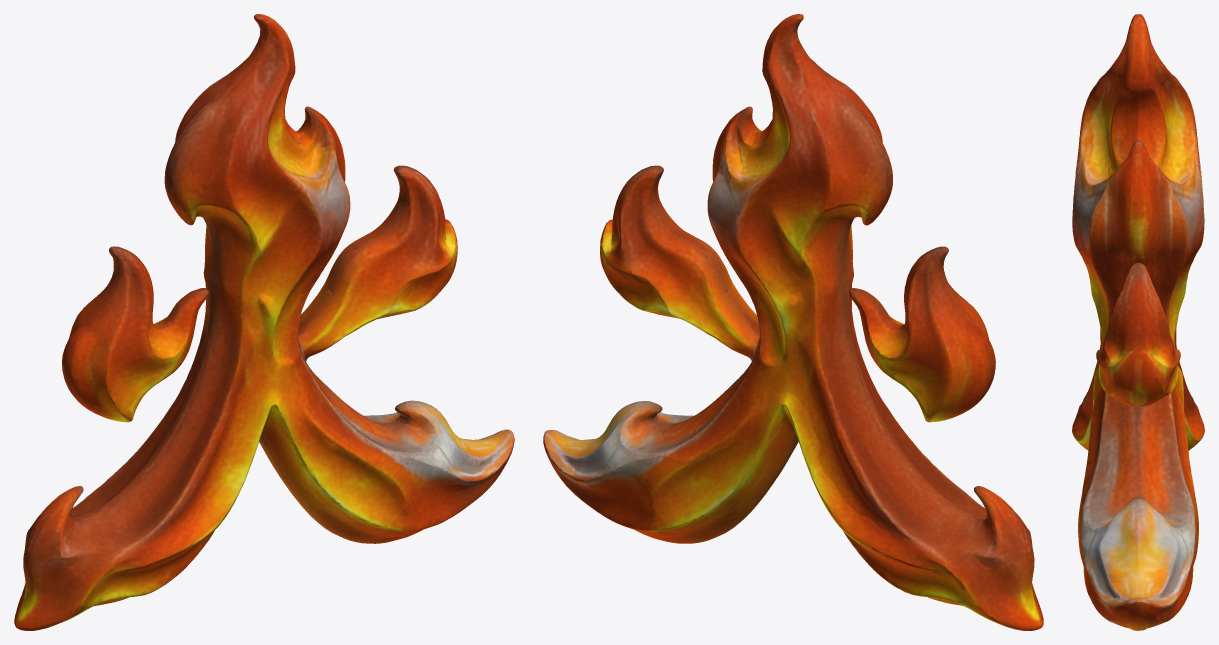
File: huo.glb
3 views of the same model, side by side, from view 1: azimuth 30°, elevation 25°; view 2: azimuth 150°, elevation 25°; view 3: azimuth 270°, elevation 25° (orthographic). The views are drawn at different scales.
Visible parts, largest first — view 1: world; view 2: world; view 3: world.
Boxes of the visible parts, bbox=[...] form: world: bbox=[14, 14, 514, 630]; world: bbox=[543, 14, 1043, 630]; world: bbox=[1072, 14, 1204, 630].
Size of the model in its own units: 0.3738 by 0.4 by 0.089.
1 material, 1 textured.
